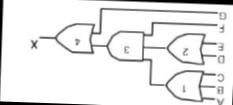and: (103, 29, 146, 63)
or: (50, 19, 95, 56), (164, 29, 206, 66), (164, 68, 206, 103)
